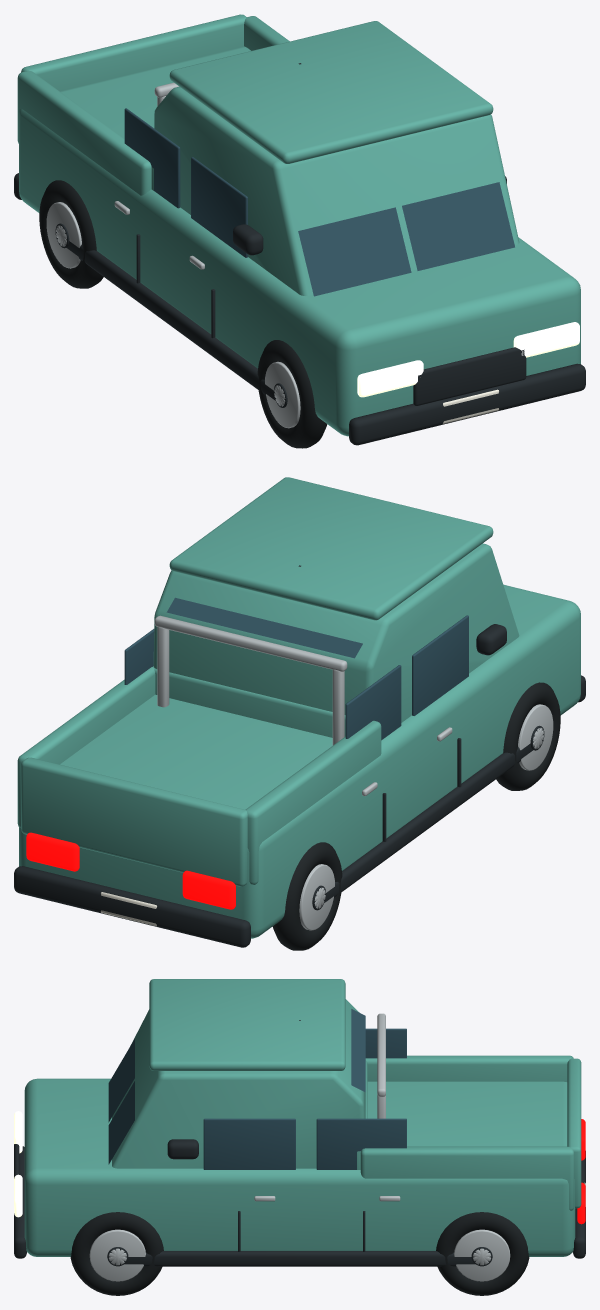
File: hilux-bakkie.glb
The picture shows the model from 3 angles, top to bottom: view 1: azimuth 30°, elevation 25°; view 2: azimuth 150°, elevation 25°; view 3: azimuth 270°, elevation 25°; orthographic projection. The views are drawn at different scales.
Visible parts, largest first — view 1: body, cabin_shell, roof, window_front_left, window_front_right, tailgate, bumper_front, bed_rail_left, side_skirt_left, grille_surround, window_left_front, wheel_fl_tire (+8 smaller); view 2: body, roof, cabin_shell, tailgate, bumper_rear, bed_rail_left, bed_rail_right, bed_front_wall, side_skirt_left, window_left_front, window_rear, wheel_rl_tire (+11 smaller); view 3: body, roof, cabin_shell, bed_rail_right, bed_rail_left, side_skirt_right, window_right_front, wheel_fr_tire, wheel_rr_tire, window_right_rear, wheel_fr_rim, wheel_rr_rim (+9 smaller).
Boxes of the visible parts, box(x1,y1,x2,y2) form: body: box(19, 46, 580, 436); cabin_shell: box(154, 86, 519, 295); roof: box(169, 21, 493, 163); window_front_left: box(298, 207, 411, 296); window_front_right: box(402, 182, 514, 270); tailgate: box(21, 14, 246, 91); bumper_front: box(349, 363, 585, 445); bed_rail_left: box(17, 71, 151, 195); side_skirt_left: box(67, 241, 275, 400); grille_surround: box(413, 347, 526, 405); window_left_front: box(191, 157, 247, 257); wheel_fl_tire: box(257, 340, 327, 448); body: box(19, 584, 580, 938); roof: box(169, 477, 493, 620); cabin_shell: box(153, 543, 519, 722); tailgate: box(21, 757, 247, 886); bumper_rear: box(14, 866, 250, 947); bed_rail_left: box(245, 720, 381, 884); bed_rail_right: box(17, 667, 155, 827); bed_front_wall: box(153, 666, 345, 737); side_skirt_left: box(324, 743, 532, 902); window_left_front: box(412, 615, 468, 715); window_rear: box(166, 597, 362, 658); wheel_rl_tire: box(272, 842, 342, 950); body: box(24, 1078, 575, 1256); roof: box(149, 979, 345, 1070); cabin_shell: box(112, 999, 365, 1168); bed_rail_right: box(360, 1146, 574, 1210); bed_rail_left: box(365, 1055, 573, 1081); side_skirt_right: box(124, 1251, 475, 1266); window_right_front: box(203, 1118, 295, 1169); wheel_fr_tire: box(70, 1212, 163, 1295); wheel_rr_tire: box(436, 1212, 529, 1295); window_right_rear: box(316, 1118, 406, 1169); wheel_fr_rim: box(89, 1229, 145, 1281); wheel_rr_rim: box(454, 1229, 510, 1281).
Size of the model in its own units: 2.15 by 2.15 by 4.9.
